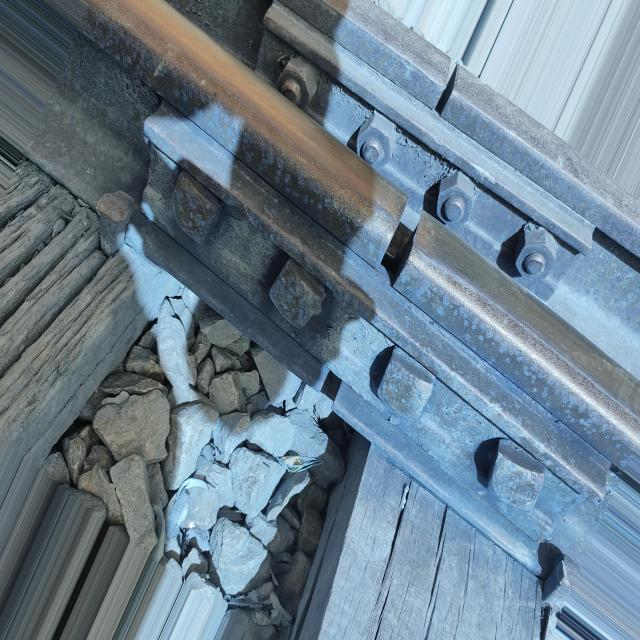crack: (119, 110, 190, 286), (382, 169, 432, 306), (423, 46, 477, 122)
